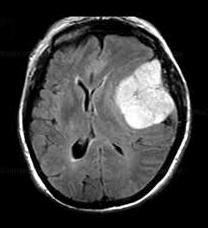Tumour-Meningioma: (118, 48, 177, 145)
